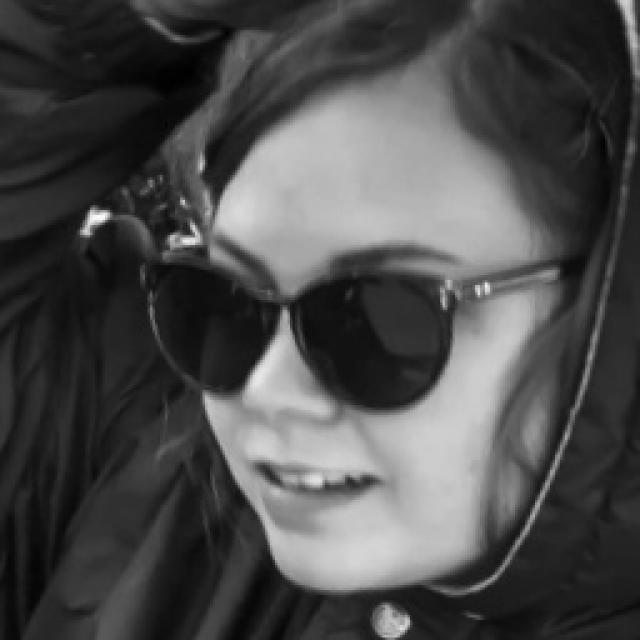glasses: (126, 198, 561, 422)
